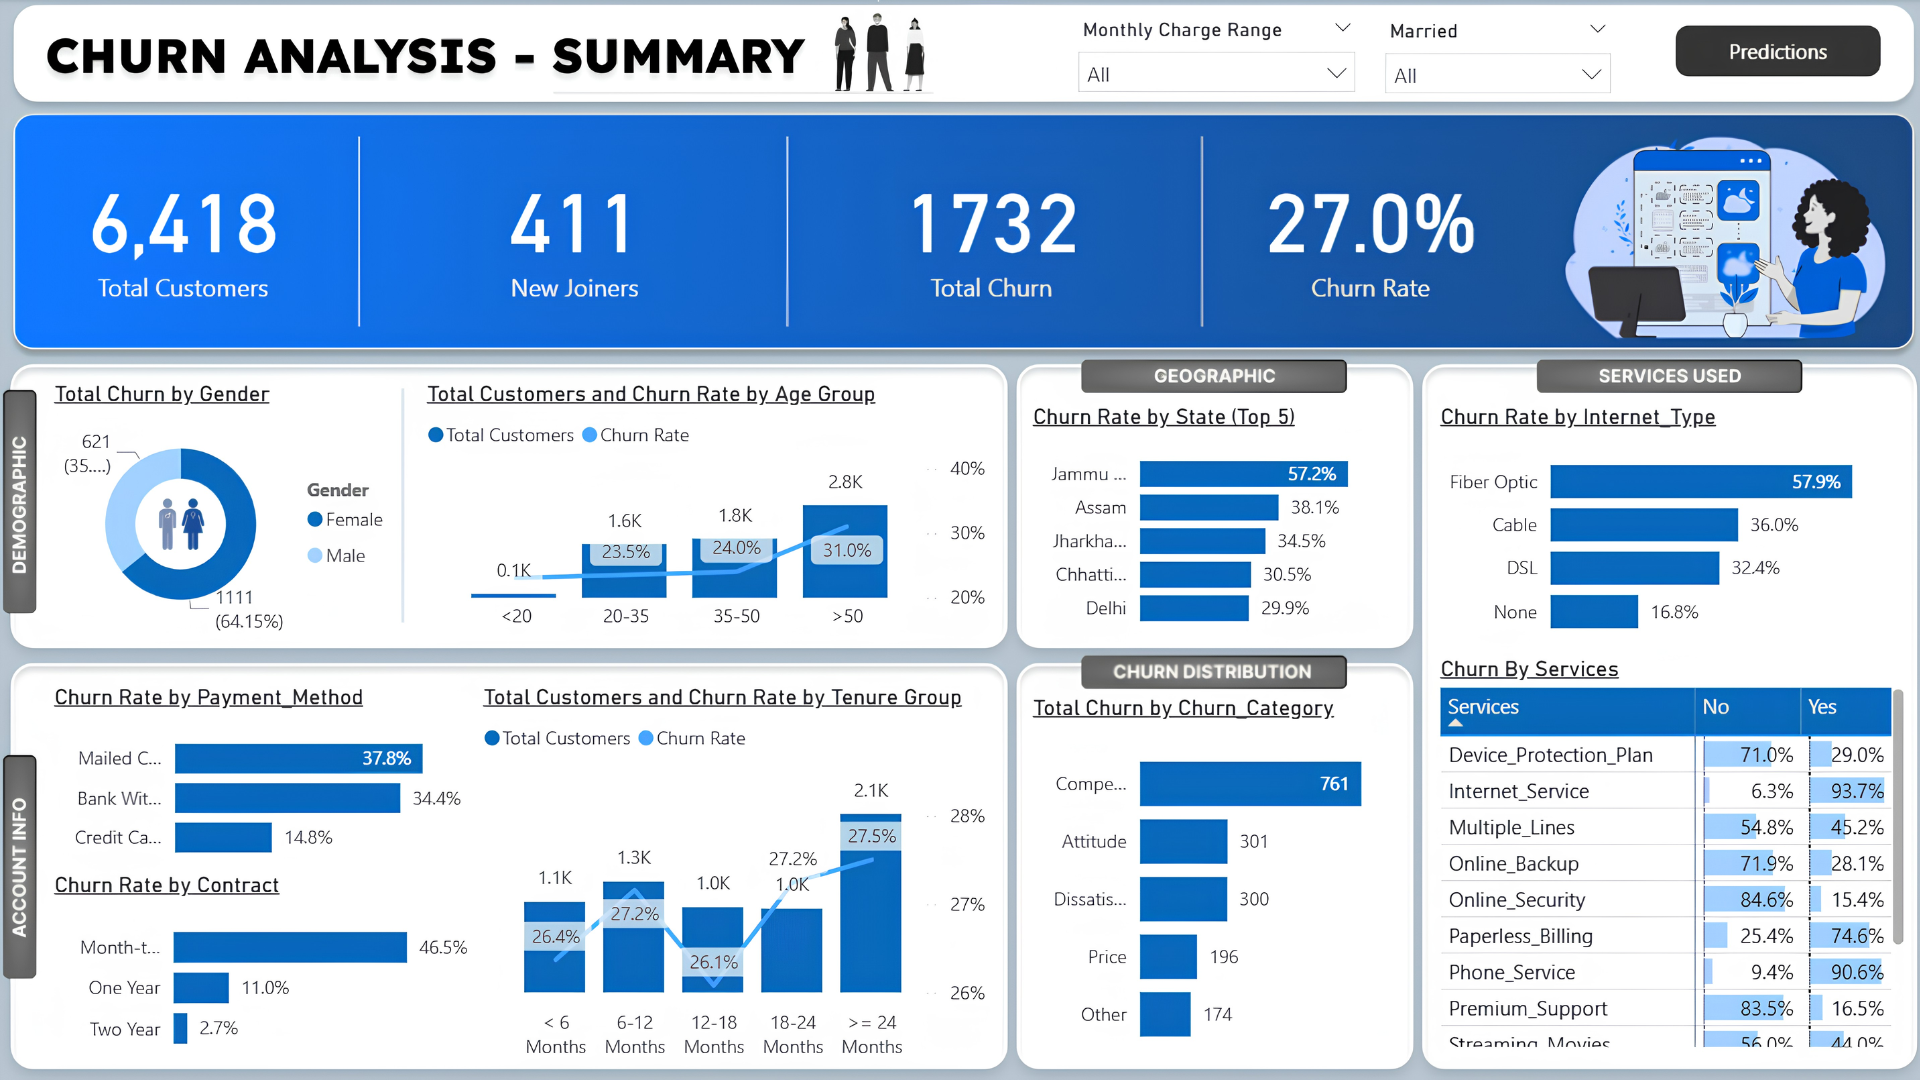

The page's visual inventory and layout, read from the dashboard file:
{"tool":"powerbi","page":{"name":"Summary","canvas":[1280,720],"ordinal":0},"visuals":[{"type":"image","box":[52.6,307.8,138.9,79.8],"z":0},{"type":"card","fields":{"Values":["tbl_Measures.Total Customers"]},"box":[25.8,89.8,192.9,126.2],"z":1000},{"type":"card","fields":{"Values":["tbl_Measures.New Joiners"]},"box":[285.3,89.8,192.9,126.2],"z":2000},{"type":"card","fields":{"Values":["tbl_Measures.Total Churn"]},"box":[561.8,89.8,192.9,126.2],"z":3000},{"type":"card","fields":{"Values":["tbl_Measures.Churn Rate"]},"box":[813.3,89.8,192.9,126.2],"z":4000},{"type":"donutChart","fields":{"Category":["prod_Churn.Gender"],"Y":["tbl_Measures.Total Churn"]},"box":[31.9,253.4,238.4,173.6],"z":5000},{"type":"lineStackedColumnComboChart","fields":{"Category":["mapping_AgeGrp.Age Group"],"Y":["tbl_Measures.Total Customers"],"Y2":["tbl_Measures.Churn Rate"]},"box":[278.7,253.4,380.1,173.6],"z":6000},{"type":"clusteredBarChart","fields":{"Category":["prod_Churn.Payment_Method"],"Y":["tbl_Measures.Churn Rate"]},"box":[32,454.2,288.9,128],"z":7000},{"type":"clusteredBarChart","fields":{"Y":["tbl_Measures.Churn Rate"],"Category":["prod_Churn.Contract"]},"box":[32,578.7,284.4,130.7],"z":8000},{"type":"lineStackedColumnComboChart","fields":{"Category":["mapping_TenureGrp.Tenure Group"],"Y":["tbl_Measures.Total Customers"],"Y2":["tbl_Measures.Churn Rate"]},"box":[316.2,454.2,342.5,255.2],"z":9000},{"type":"clusteredBarChart","title":"Churn Rate by State (Top 5)","fields":{"Category":["prod_Churn.State"],"Y":["tbl_Measures.Churn Rate"]},"box":[681.3,268.4,252.4,158.6],"z":10000},{"type":"clusteredBarChart","fields":{"Category":["prod_Churn.Churn_Category"],"Y":["tbl_Measures.Total Churn"]},"box":[681.3,461.7,252.4,247.7],"z":11000},{"type":"clusteredBarChart","fields":{"Y":["tbl_Measures.Churn Rate"],"Category":["prod_Churn.Internet_Type"]},"box":[951.6,268.4,318.1,166.1],"z":12000},{"type":"pivotTable","title":"Churn By Services","fields":{"Rows":["prod_Services.Services"],"Columns":["prod_Services.Status"],"Values":["Sum(prod_Services.Churn Status)"]},"box":[951.6,435.4,318.1,263.7],"z":13000},{"type":"slicer","fields":{"Values":["prod_Churn.Monthly Charge Status"]},"box":[705.8,8.3,204.2,54.2],"z":14000},{"type":"slicer","fields":{"Values":["prod_Churn.Married"]},"box":[909.3,8.4,169.9,54.4],"z":15000},{"type":"shape","box":[1112,17.8,136,33.8],"z":16000}]}

Visuals, with their boxes in screenshot pixels (x1, y1, x2, y2), scaled from the page's 1280x720 canvas onto the 1920x1080 screenshot:
image: box=[79, 462, 287, 581]
card - tbl_Measures.Total Customers: box=[39, 135, 328, 324]
card - tbl_Measures.New Joiners: box=[428, 135, 717, 324]
card - tbl_Measures.Total Churn: box=[843, 135, 1132, 324]
card - tbl_Measures.Churn Rate: box=[1220, 135, 1509, 324]
donutChart - prod_Churn.Gender x tbl_Measures.Total Churn: box=[48, 380, 405, 640]
lineStackedColumnComboChart - mapping_AgeGrp.Age Group x tbl_Measures.Total Customers: box=[418, 380, 988, 640]
clusteredBarChart - prod_Churn.Payment_Method x tbl_Measures.Churn Rate: box=[48, 681, 481, 873]
clusteredBarChart - tbl_Measures.Churn Rate x prod_Churn.Contract: box=[48, 868, 475, 1064]
lineStackedColumnComboChart - mapping_TenureGrp.Tenure Group x tbl_Measures.Total Customers: box=[474, 681, 988, 1064]
"Churn Rate by State (Top 5)" clusteredBarChart: box=[1022, 403, 1401, 640]
clusteredBarChart - prod_Churn.Churn_Category x tbl_Measures.Total Churn: box=[1022, 693, 1401, 1064]
clusteredBarChart - tbl_Measures.Churn Rate x prod_Churn.Internet_Type: box=[1427, 403, 1905, 652]
"Churn By Services" pivotTable: box=[1427, 653, 1905, 1049]
slicer - prod_Churn.Monthly Charge Status: box=[1059, 12, 1365, 94]
slicer - prod_Churn.Married: box=[1364, 13, 1619, 94]
shape: box=[1668, 27, 1872, 77]
